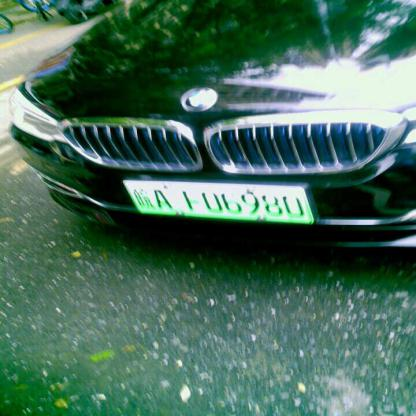lp: (125, 181, 311, 221)
